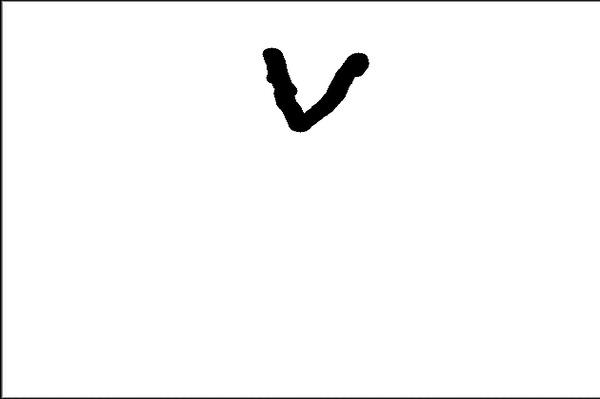V: (249, 39, 378, 134)
